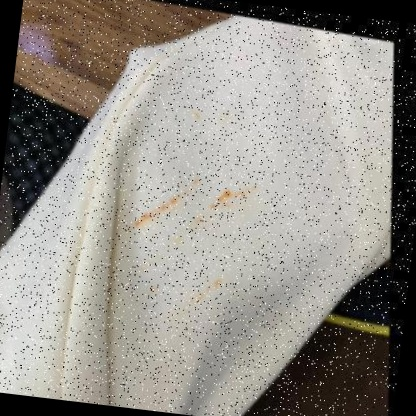kimchi: (124, 209, 152, 235), (197, 280, 220, 305), (214, 187, 239, 208), (154, 193, 176, 216), (196, 112, 210, 127)
